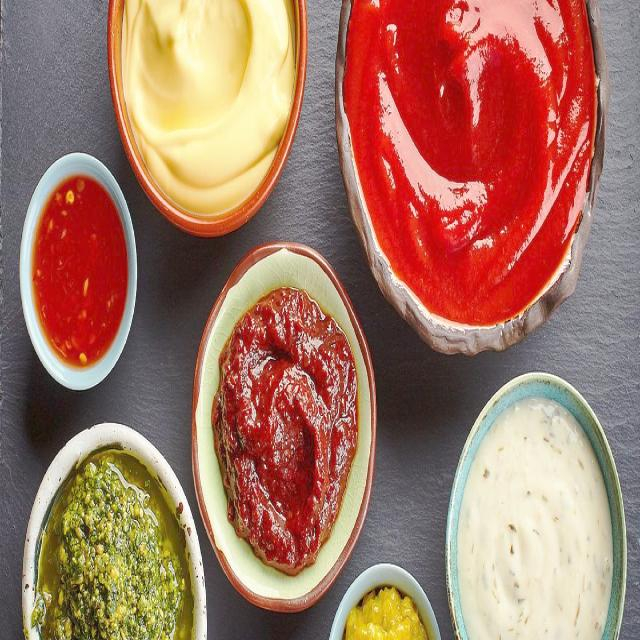ketchup: (345, 1, 597, 320)
